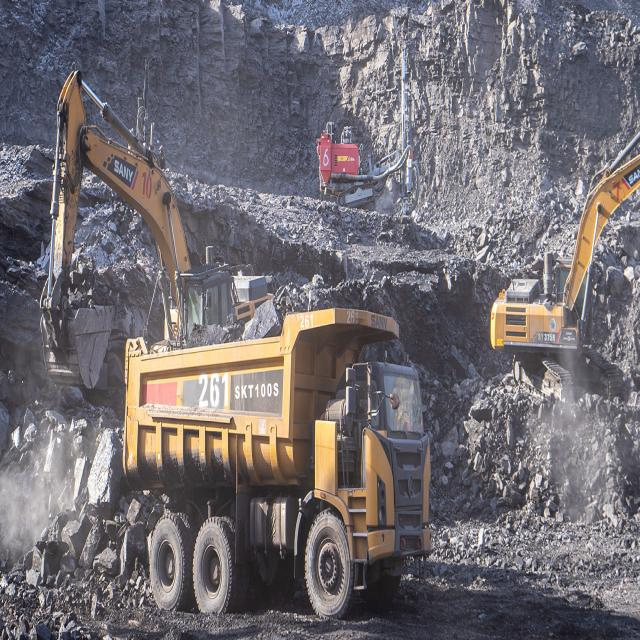dump_truck: (121, 271, 427, 625)
excavator: (22, 49, 256, 394), (479, 58, 640, 421)
